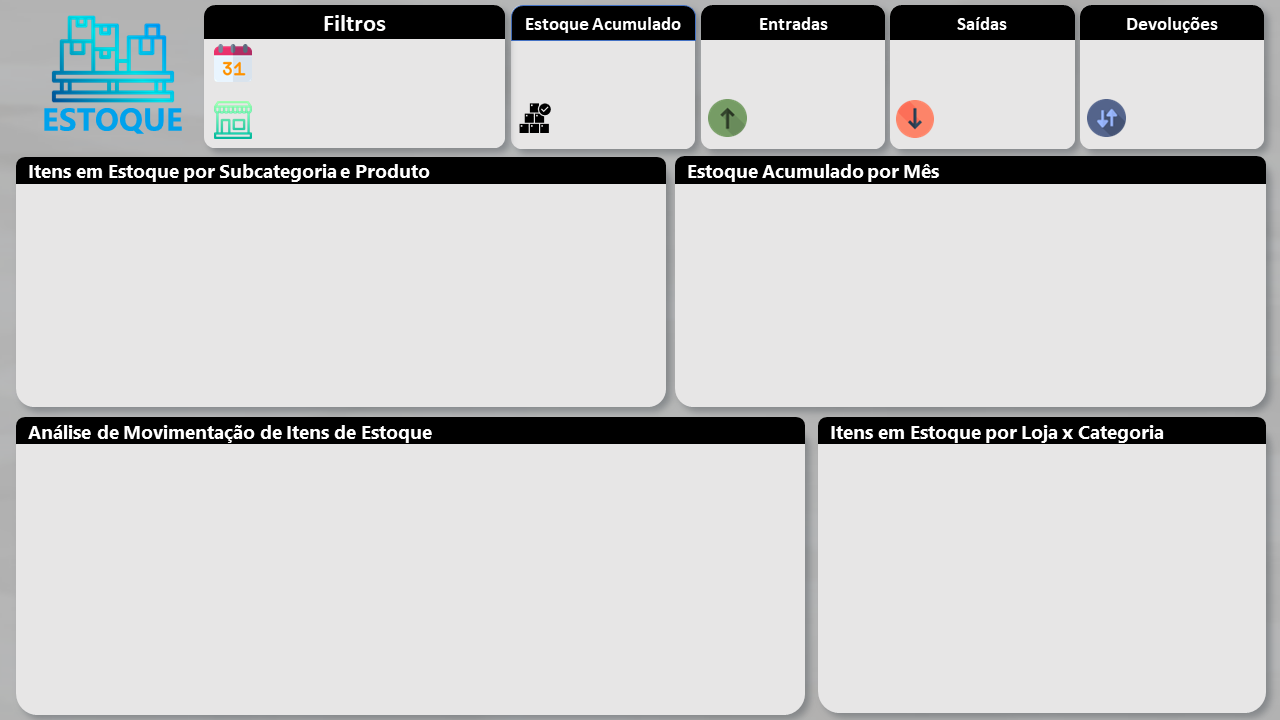

The page's visual inventory and layout, read from the dashboard file:
{"tool":"powerbi","page":{"name":"Análise de Estoque","canvas":[1280,720],"ordinal":0},"visuals":[{"type":"columnChart","fields":{"Category":["Tab_Estoque.ID LOJA"],"Y":["Sum(Tab_Estoque.ESTOQUE)"],"Series":["Tab_Produtos.CATEGORIA"]},"box":[819,442.6,447.4,268.4],"z":0},{"type":"areaChart","fields":{"Category":["Tab_Data.Mês Abreviado"],"Y":["Sum(Tab_Estoque.ESTOQUE)"]},"box":[673.1,181.9,586.5,213],"z":1000},{"type":"decompositionTreeVisual","fields":{"Analyze":["Sum(Tab_Estoque.ESTOQUE)"],"ExplainBy":["Tab_Estoque.TIPO","Tab_Produtos.SUBCATEGORIA","Tab_Produtos.CATEGORIA"]},"box":[14.6,442.6,786.9,277.2],"z":2000},{"type":"barChart","fields":{"Category":["Tab_Produtos.SUBCATEGORIA"],"Y":["Sum(Tab_Estoque.ESTOQUE)"]},"box":[14.6,181.9,650.7,219.8],"z":3000},{"type":"card","fields":{"Values":["Sum(Tab_Estoque.ESTOQUE)"]},"box":[543.7,47.7,136.2,87.5],"z":4000},{"type":"card","fields":{"Values":["Sum(Tab_Estoque.ESTOQUE)"]},"box":[733.4,47.7,136.2,87.5],"z":5000},{"type":"card","fields":{"Values":["Sum(Tab_Estoque.ESTOQUE)"]},"box":[924,47.7,136.2,87.5],"z":6000},{"type":"card","fields":{"Values":["Sum(Tab_Estoque.ESTOQUE)"]},"box":[1109.8,47.7,136.2,87.5],"z":7000},{"type":"slicer","fields":{"Values":["Tab_Data.Mês Abreviado"]},"box":[261.6,37,239.3,47.7],"z":8000},{"type":"slicer","fields":{"Values":["Tab_Estoque.ID LOJA"]},"box":[261.6,91.4,239.3,47.7],"z":9000}]}

Visuals, with their boxes in screenshot pixels (x1, y1, x2, y2), scaled from the page's 1280x720 canvas onto the 1280x720 screenshot:
columnChart - Tab_Estoque.ID LOJA x Sum(Tab_Estoque.ESTOQUE): x1=819 y1=443 x2=1266 y2=711
areaChart - Tab_Data.Mês Abreviado x Sum(Tab_Estoque.ESTOQUE): x1=673 y1=182 x2=1260 y2=395
decompositionTreeVisual - Sum(Tab_Estoque.ESTOQUE) x Tab_Estoque.TIPO: x1=15 y1=443 x2=802 y2=719
barChart - Tab_Produtos.SUBCATEGORIA x Sum(Tab_Estoque.ESTOQUE): x1=15 y1=182 x2=665 y2=402
card - Sum(Tab_Estoque.ESTOQUE): x1=544 y1=48 x2=680 y2=135
card - Sum(Tab_Estoque.ESTOQUE): x1=733 y1=48 x2=870 y2=135
card - Sum(Tab_Estoque.ESTOQUE): x1=924 y1=48 x2=1060 y2=135
card - Sum(Tab_Estoque.ESTOQUE): x1=1110 y1=48 x2=1246 y2=135
slicer - Tab_Data.Mês Abreviado: x1=262 y1=37 x2=501 y2=85
slicer - Tab_Estoque.ID LOJA: x1=262 y1=91 x2=501 y2=139
